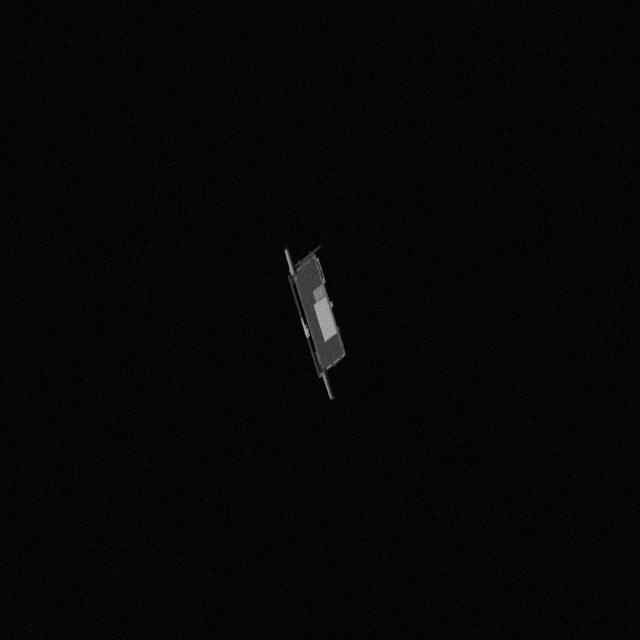medium_debris: (276, 226, 350, 408)
